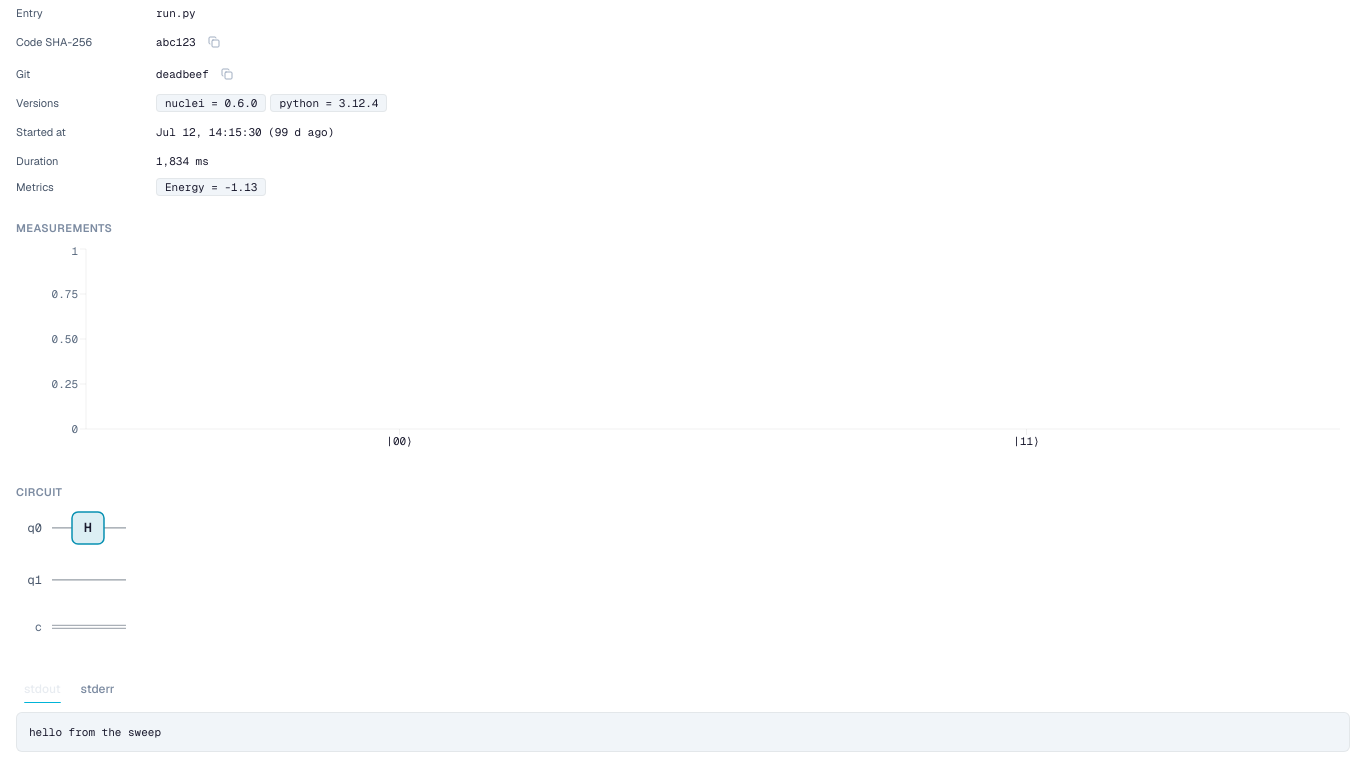
Test: RunDetail › switches between stdout and stderr tabs
(page scrolled)
Check: the text "hello from the sweep" is shown, box x1=16 y1=712 x2=1350 y2=752
Click the tab "stderr".
click(98, 689)  # box x1=73 y1=675 x2=122 y2=703
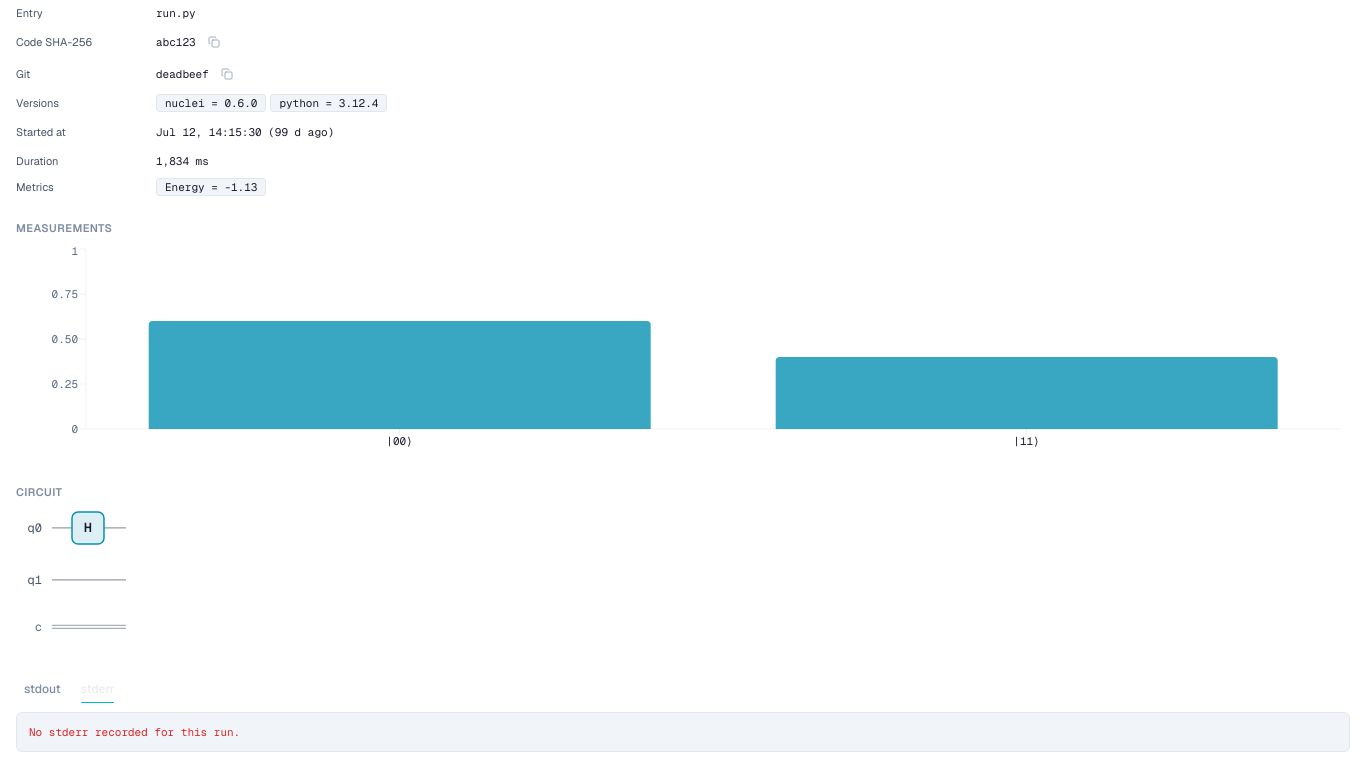
Check: the text "No stderr recorded for this run." is shown, box x1=16 y1=712 x2=1350 y2=752
